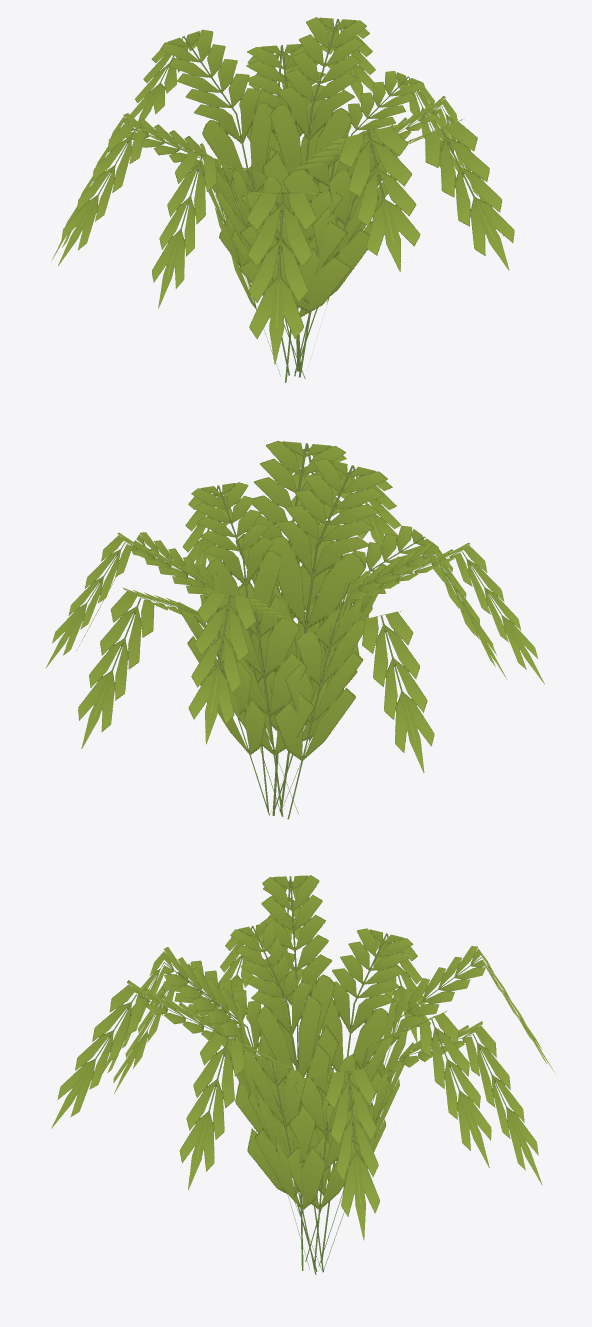
The model's file is Furn_Fern_A.fbx.
The picture shows the model from 3 angles, top to bottom: view 1: azimuth 30°, elevation 25°; view 2: azimuth 150°, elevation 25°; view 3: azimuth 270°, elevation 25°; orthographic projection. The views are drawn at different scales.
Visible parts, largest first — view 1: Furn_Fern_A; view 2: Furn_Fern_A; view 3: Furn_Fern_A.
Boxes of the visible parts, x1,y1,x2,y2 form: Furn_Fern_A: (52, 17, 514, 382); Furn_Fern_A: (45, 441, 544, 819); Furn_Fern_A: (51, 875, 555, 1274).
Size of the model in its own units: 1 by 0.6 by 1.
1 material, 1 textured.
